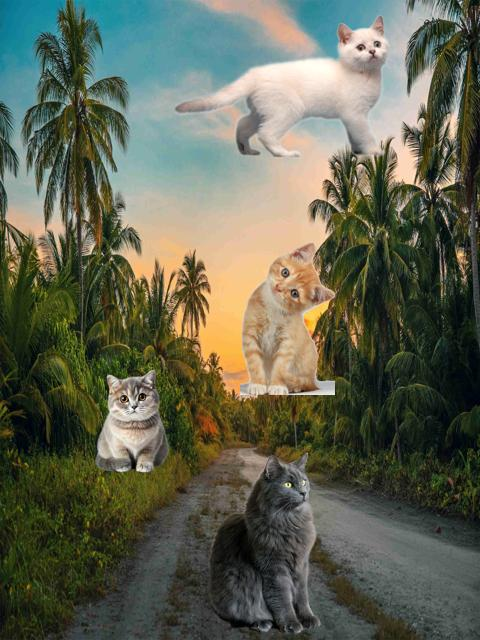cat: (177, 14, 403, 155), (206, 451, 323, 636), (72, 359, 192, 479), (242, 238, 333, 393)
